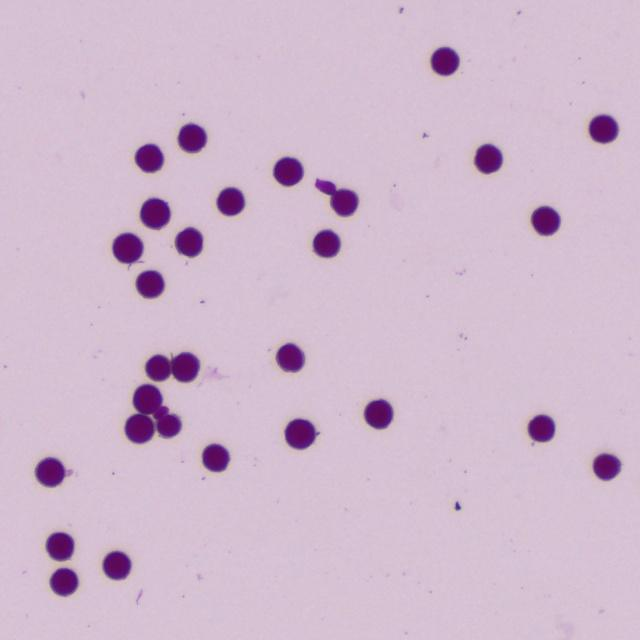viable: (140, 198, 170, 229), (113, 233, 143, 263), (285, 419, 315, 448), (589, 114, 618, 143), (531, 206, 560, 235), (474, 144, 502, 173), (125, 414, 153, 443), (133, 384, 161, 413), (178, 123, 206, 152), (273, 157, 302, 185), (175, 227, 202, 257), (276, 343, 304, 371), (46, 532, 74, 560), (135, 144, 163, 172), (50, 568, 78, 596), (431, 47, 459, 75), (103, 551, 131, 579), (365, 399, 392, 428), (173, 352, 199, 382), (313, 229, 340, 257), (36, 458, 64, 485), (136, 270, 164, 297), (202, 444, 229, 471), (217, 187, 243, 215), (330, 189, 358, 215), (593, 453, 620, 479), (528, 414, 554, 441), (145, 354, 170, 381), (156, 413, 181, 437), (153, 406, 168, 420)
